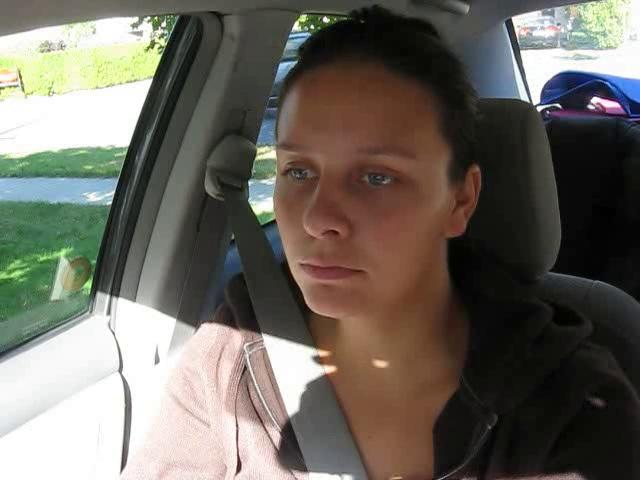no_yawn: (283, 244, 375, 298)
open_eyeL: (276, 157, 324, 190)
open_eyeR: (347, 157, 422, 201)
